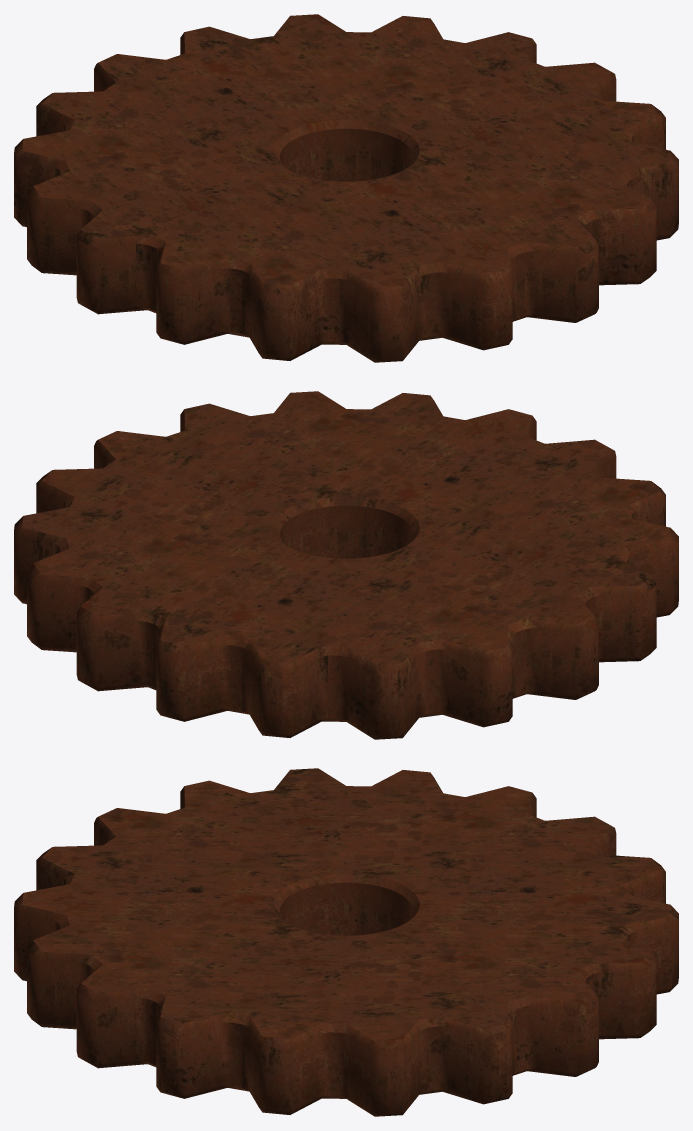
Rendered from gear_1.glb.
3 renders of one model, top to bottom at view 1: azimuth 30°, elevation 25°; view 2: azimuth 150°, elevation 25°; view 3: azimuth 270°, elevation 25°, orthographic.
Parts seen in each view (by area): view 1: gear_1; view 2: gear_1; view 3: gear_1.
Boxes of the visible parts, x1,y1,x2,y2 form: gear_1: (14, 14, 678, 362); gear_1: (14, 391, 678, 739); gear_1: (14, 768, 678, 1116).
Bounding box in the file's own units: 0.1192 × 0.015 × 0.1199.
1 material, 1 textured.
